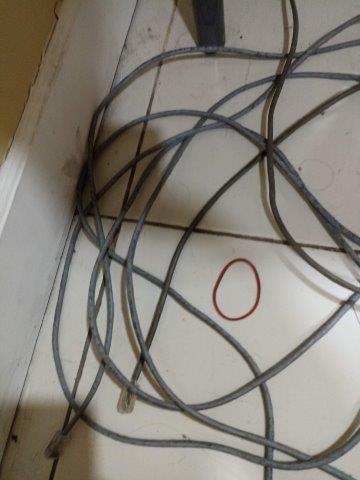karet: (212, 258, 262, 321)
